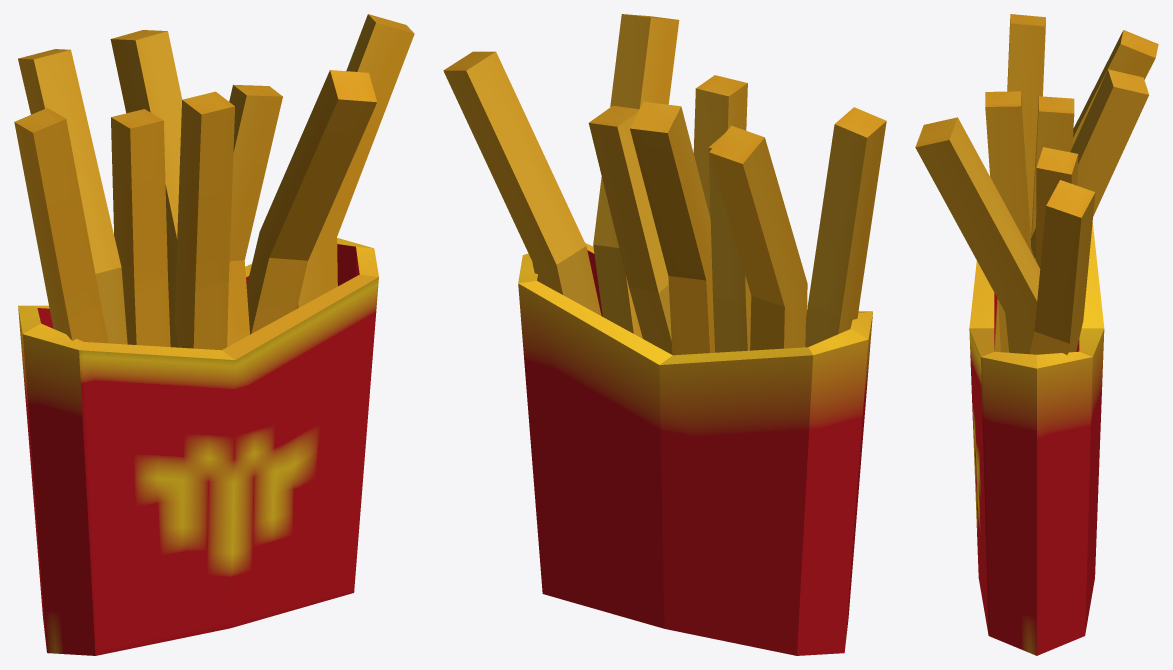
The model's file is french_fries.fbx.
3 views of the same model, side by side, from view 1: azimuth 30°, elevation 25°; view 2: azimuth 150°, elevation 25°; view 3: azimuth 270°, elevation 25° (orthographic). The views are drawn at different scales.
Parts seen in each view (by area): view 1: Cube.004; view 2: Cube.004; view 3: Cube.004.
Boxes of the visible parts, bbox=[...] form: Cube.004: bbox=[14, 14, 414, 655]; Cube.004: bbox=[443, 14, 886, 655]; Cube.004: bbox=[915, 14, 1158, 655].
Bounding box in the file's own units: 0.1372 × 0.1769 × 0.0764.
1 material, 1 textured.
